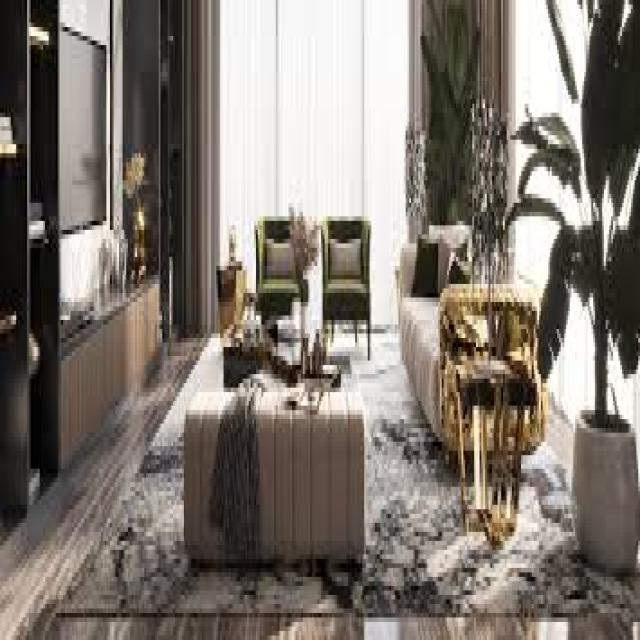Chair: (251, 203, 311, 334), (320, 201, 375, 336)
Sofa: (396, 230, 546, 461)
Table: (180, 332, 382, 570)
